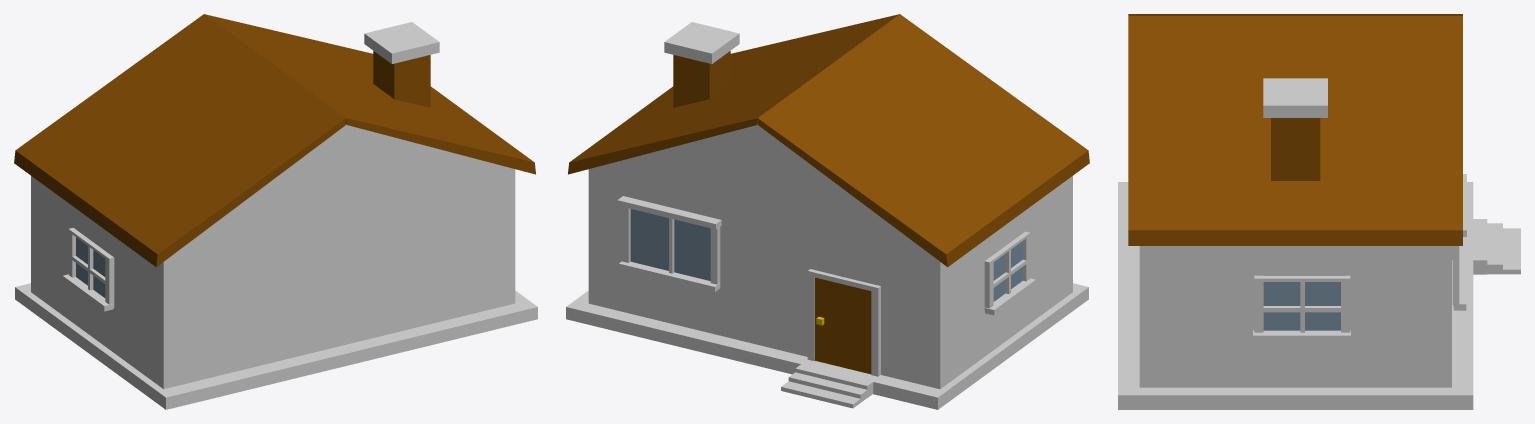
Rendered from Basic Long House Orange Roof.fbx.
The picture shows the model from 3 angles, left to right: view 1: azimuth 30°, elevation 25°; view 2: azimuth 150°, elevation 25°; view 3: azimuth 270°, elevation 25°; orthographic projection. The views are drawn at different scales.
Parts seen in each view (by area): view 1: pasted__pasted__pasted__pasted__pCube1 (×2), pasted__pasted__pasted__pCube1, pasted__pasted__pCube1 (×2), pasted__pCube1, pasted__pCube2, pasted__pasted__pCube2, pasted__pasted__pasted__pasted__pasted__pasted__pCube1 (×2), pasted__pasted__pasted__pasted__pasted__pCube1; view 2: pasted__pasted__pasted__pCube1 (×3), pasted__pasted__pCube1 (×5), pasted__pCube1, pasted__pasted__pasted__pasted__pasted__pCube1 (×2), pasted__pCube2, pasted__pasted__pasted__pasted__pasted__pasted__pCube1 (×3), pasted__pasted__pCube2, pasted__pasted__pasted__pasted__pasted__pasted__pasted__pCub (×2), pasted__pasted__pasted__pasted__pCube1; view 3: pasted__pasted__pCube1 (×2), pasted__pasted__pasted__pCube1 (×2), pasted__pCube1, pasted__pasted__pasted__pasted__pCube1 (×3), pasted__pCube2, pasted__pasted__pCube2, pasted__pasted__pasted__pasted__pasted__pasted__pCube1 (×2), pasted__pasted__pCube3, pasted__pasted__pasted__pasted__pasted__pasted__pasted__pCub.
Part boxes in pixels (x1=…): pasted__pasted__pasted__pasted__pCube1 (×2): x1=68, y1=124, x2=514, y2=388; pasted__pasted__pasted__pCube1: x1=14, y1=14, x2=346, y2=267; pasted__pasted__pCube1 (×2): x1=31, y1=14, x2=535, y2=389; pasted__pCube1: x1=15, y1=283, x2=537, y2=409; pasted__pCube2: x1=373, y1=51, x2=430, y2=107; pasted__pasted__pCube2: x1=364, y1=22, x2=439, y2=63; pasted__pasted__pasted__pasted__pasted__pasted__pCube1 (×2): x1=62, y1=254, x2=114, y2=311; pasted__pasted__pasted__pasted__pasted__pCube1: x1=76, y1=237, x2=105, y2=297; pasted__pasted__pasted__pCube1 (×3): x1=588, y1=14, x2=1089, y2=388; pasted__pasted__pCube1 (×5): x1=568, y1=14, x2=1072, y2=408; pasted__pCube1: x1=566, y1=283, x2=1088, y2=409; pasted__pasted__pasted__pasted__pasted__pCube1 (×2): x1=630, y1=209, x2=1022, y2=301; pasted__pCube2: x1=673, y1=51, x2=730, y2=107; pasted__pasted__pasted__pasted__pasted__pasted__pCube1 (×3): x1=619, y1=226, x2=1035, y2=315; pasted__pasted__pCube2: x1=664, y1=22, x2=739, y2=63; pasted__pasted__pasted__pasted__pasted__pasted__pasted__pCub (×2): x1=617, y1=196, x2=721, y2=262; pasted__pasted__pasted__pasted__pCube1: x1=984, y1=234, x2=1026, y2=311; pasted__pasted__pCube1 (×2): x1=1128, y1=16, x2=1520, y2=274; pasted__pasted__pasted__pCube1 (×2): x1=1128, y1=14, x2=1462, y2=387; pasted__pCube1: x1=1118, y1=182, x2=1473, y2=409; pasted__pasted__pasted__pasted__pCube1 (×3): x1=1254, y1=275, x2=1350, y2=332; pasted__pCube2: x1=1271, y1=118, x2=1320, y2=180; pasted__pasted__pCube2: x1=1263, y1=78, x2=1327, y2=117; pasted__pasted__pasted__pasted__pasted__pasted__pCube1 (×2): x1=1253, y1=249, x2=1466, y2=341; pasted__pasted__pCube3: x1=1263, y1=306, x2=1341, y2=312; pasted__pasted__pasted__pasted__pasted__pasted__pasted__pCub: x1=1452, y1=246, x2=1459, y2=305.
Bounding box in the file's own units: 10.44 × 6.4 × 8.15.
